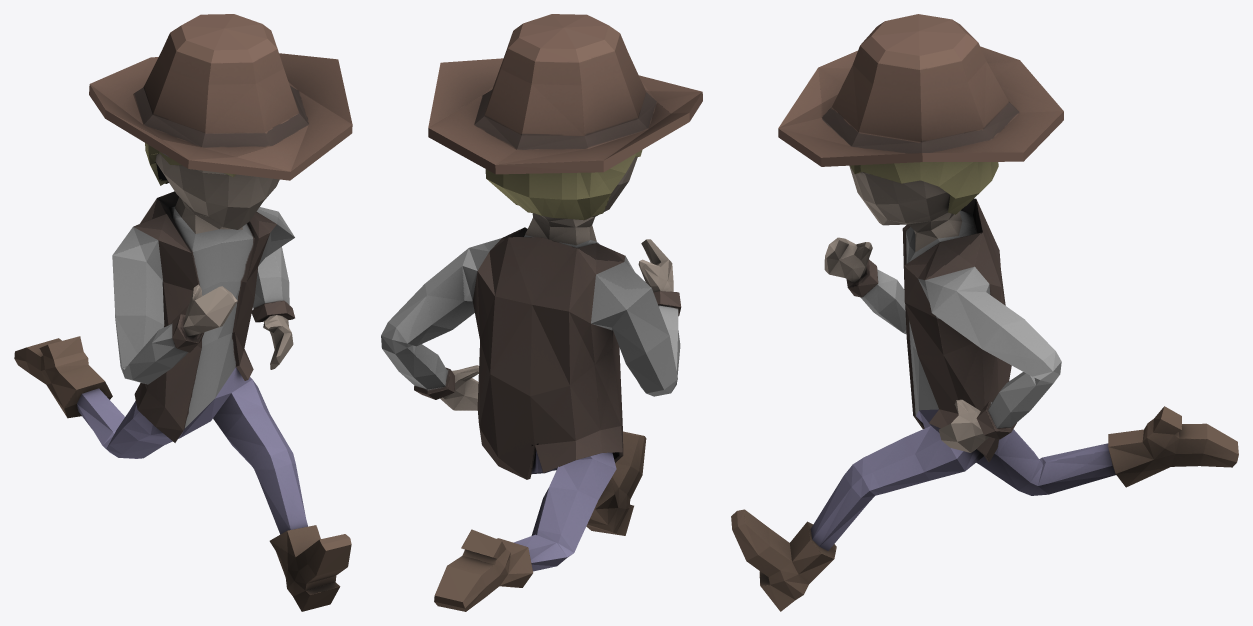
Rendered from char_20.obj.
3 views of the same model, side by side, from view 1: azimuth 30°, elevation 25°; view 2: azimuth 150°, elevation 25°; view 3: azimuth 270°, elevation 25° (orthographic). The views are drawn at different scales.
Parts seen in each view (by area): view 1: Cube; view 2: Cube; view 3: Cube.
Boxes of the visible parts, x1,y1,x2,y2 form: Cube: [14, 14, 352, 611]; Cube: [381, 14, 702, 611]; Cube: [731, 14, 1238, 611].
Size of the model in its own units: 3.49 by 7.62 by 6.26.
1 material, 1 textured.
